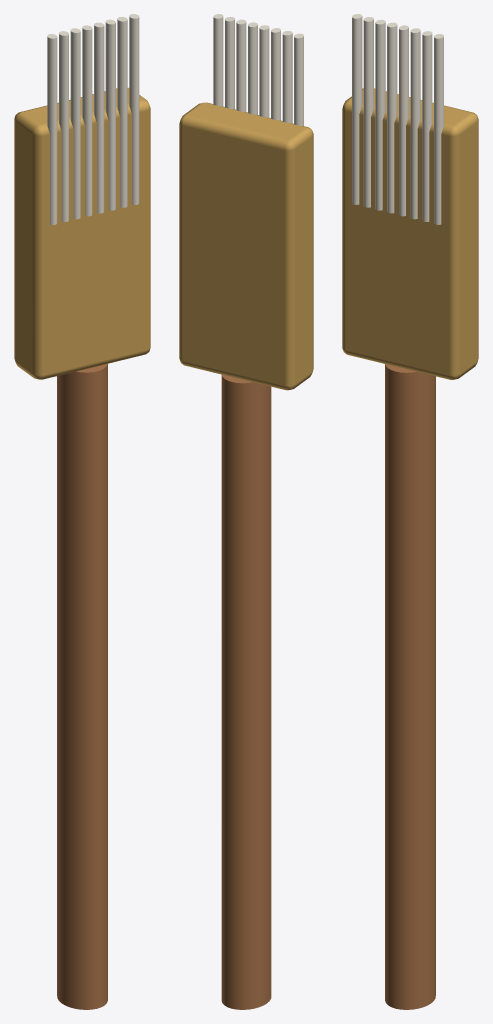
File: wp-pinceau-plat.glb
The picture shows the model from 3 angles, left to right: view 1: azimuth 30°, elevation 25°; view 2: azimuth 150°, elevation 25°; view 3: azimuth 330°, elevation 25°; orthographic projection.
Parts seen in each view (by area): view 1: wp-pinceau-plat; view 2: wp-pinceau-plat; view 3: wp-pinceau-plat.
Part boxes in pixels (bbox=[...]): wp-pinceau-plat: bbox=[14, 14, 150, 1009]; wp-pinceau-plat: bbox=[179, 14, 313, 1009]; wp-pinceau-plat: bbox=[342, 14, 478, 1009].
Bounding box in the file's own units: 0.035 × 0.28 × 0.015.
